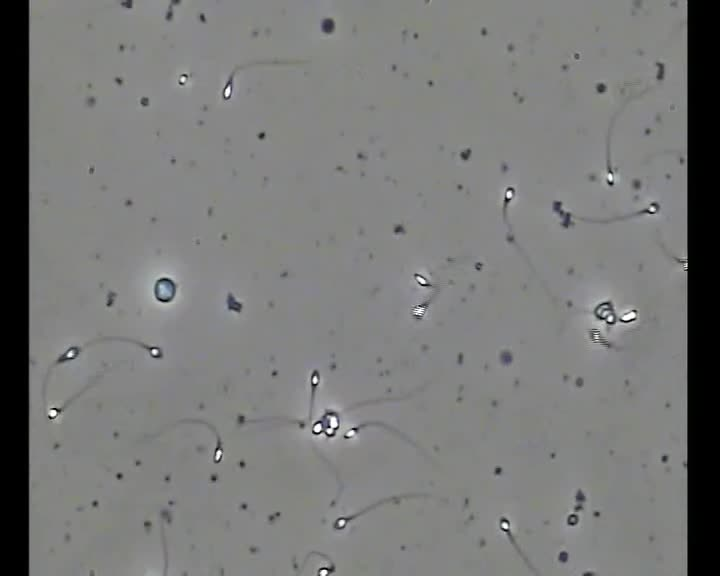spermhead: (153, 277, 176, 303), (592, 300, 613, 321), (57, 346, 80, 363), (222, 74, 233, 101), (413, 271, 431, 287), (619, 308, 638, 323), (416, 296, 428, 319), (317, 561, 335, 575), (326, 411, 339, 430), (333, 516, 349, 530), (499, 516, 511, 534), (644, 200, 660, 213), (504, 185, 514, 204), (214, 441, 223, 462), (343, 426, 357, 439), (177, 72, 190, 86), (311, 420, 323, 435), (310, 370, 319, 389), (605, 169, 615, 186), (46, 407, 59, 420), (148, 346, 162, 358), (604, 313, 616, 326), (591, 336, 602, 349), (324, 426, 336, 437), (678, 264, 687, 278)
